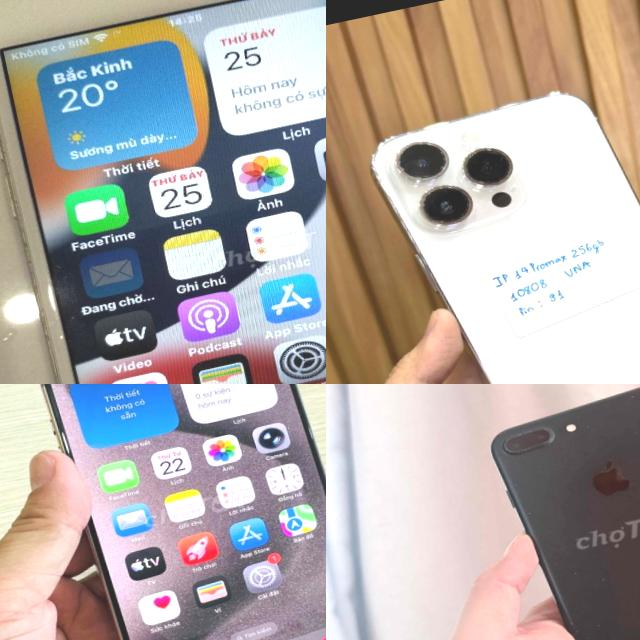gen_14: (357, 59, 640, 384)
gen_15: (13, 384, 326, 640)
gen_6: (0, 0, 326, 384)
gen_7_8: (468, 384, 640, 640)
scratch: (562, 599, 640, 640), (558, 561, 614, 610), (495, 420, 565, 457), (570, 408, 596, 430), (514, 501, 534, 519), (626, 392, 638, 402), (558, 454, 570, 464)
